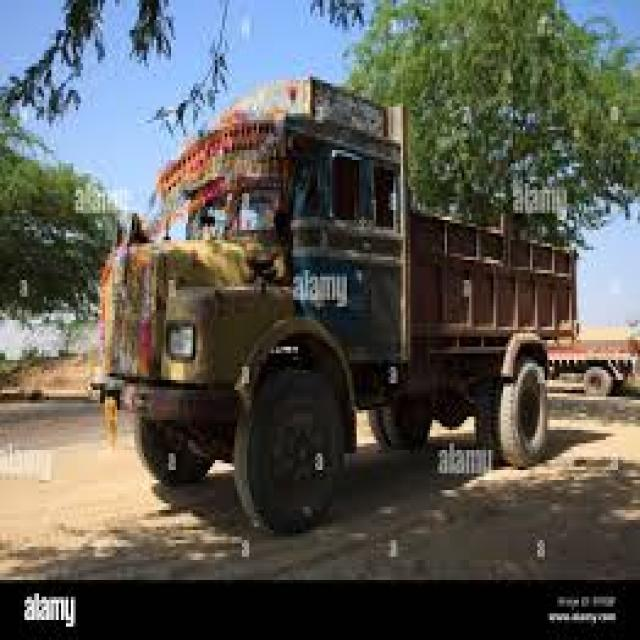uncovered: (108, 76, 576, 528)
